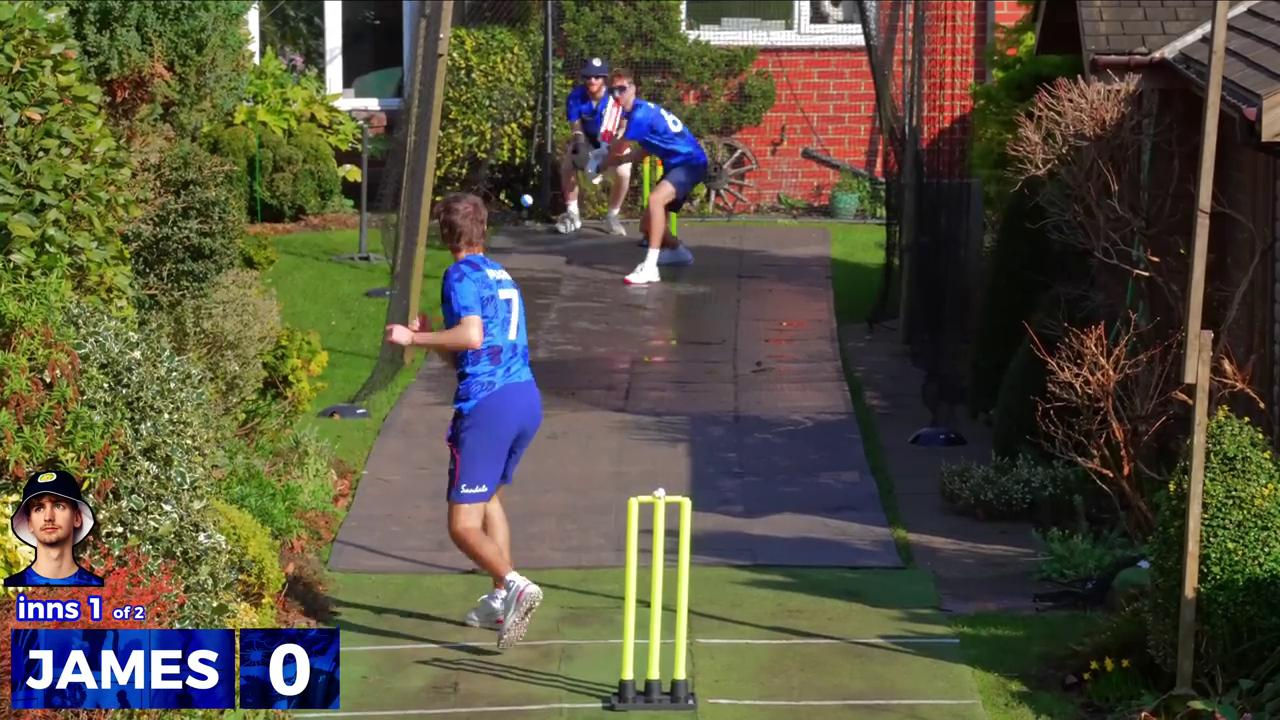ball: (511, 190, 542, 213)
